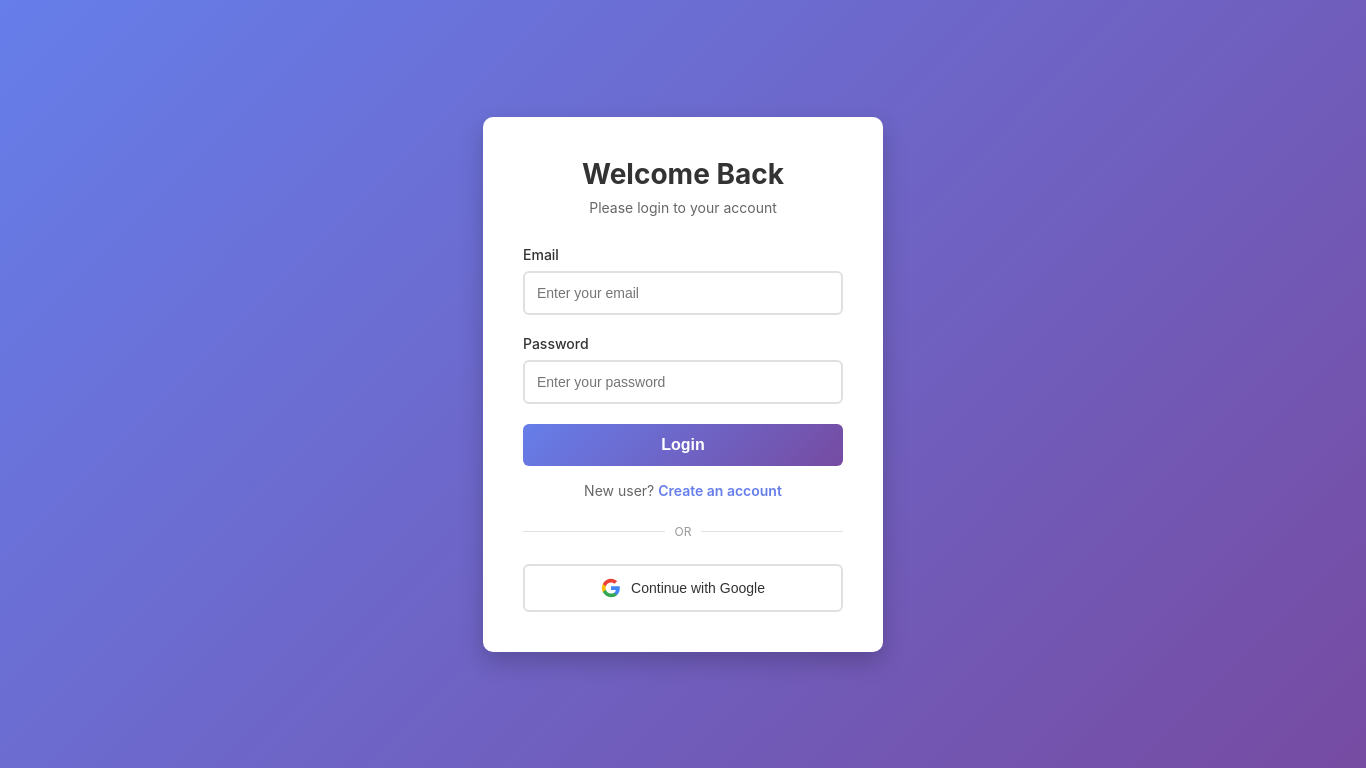
Login page › shows email required error when submitting with empty email
Click the button "Login" at (683, 444), box [523,424,843,466]
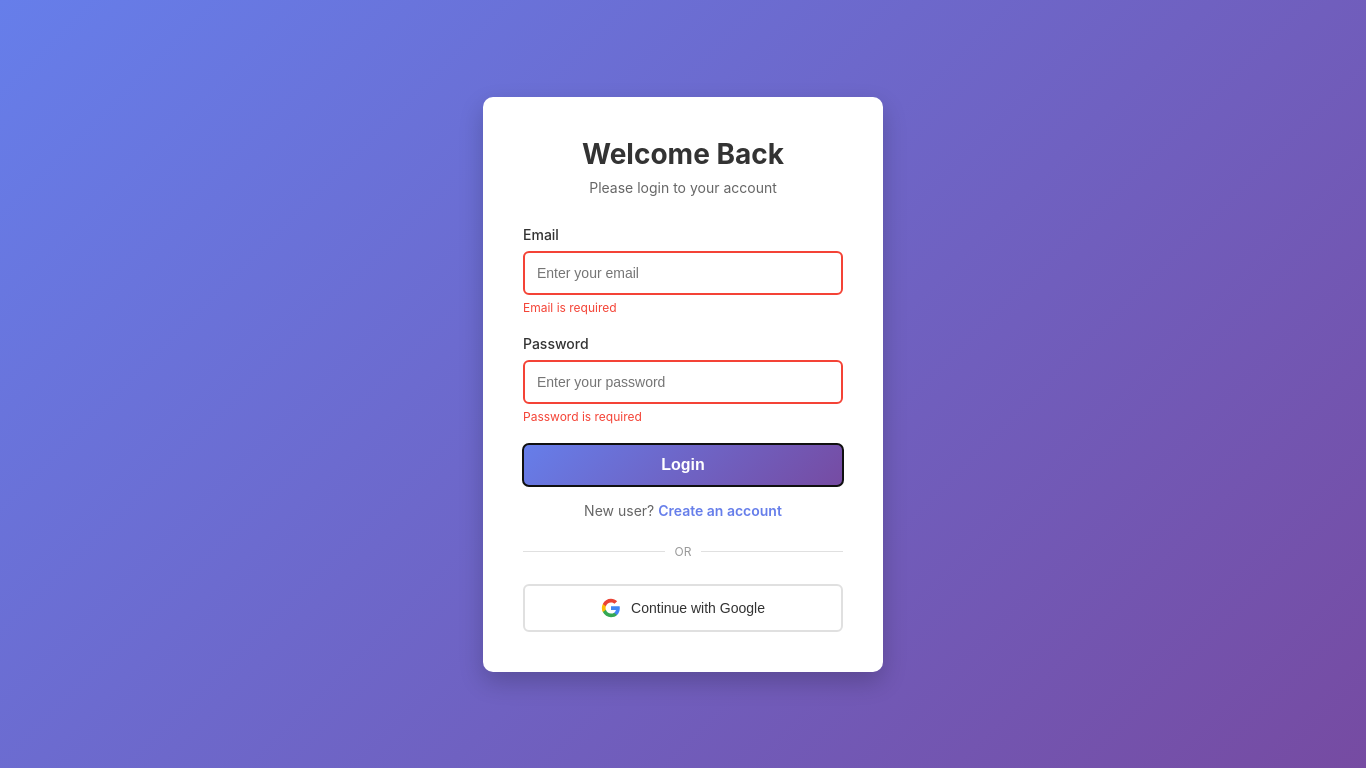
Expected: the text "Email is required" is shown, [523,300,617,314]
